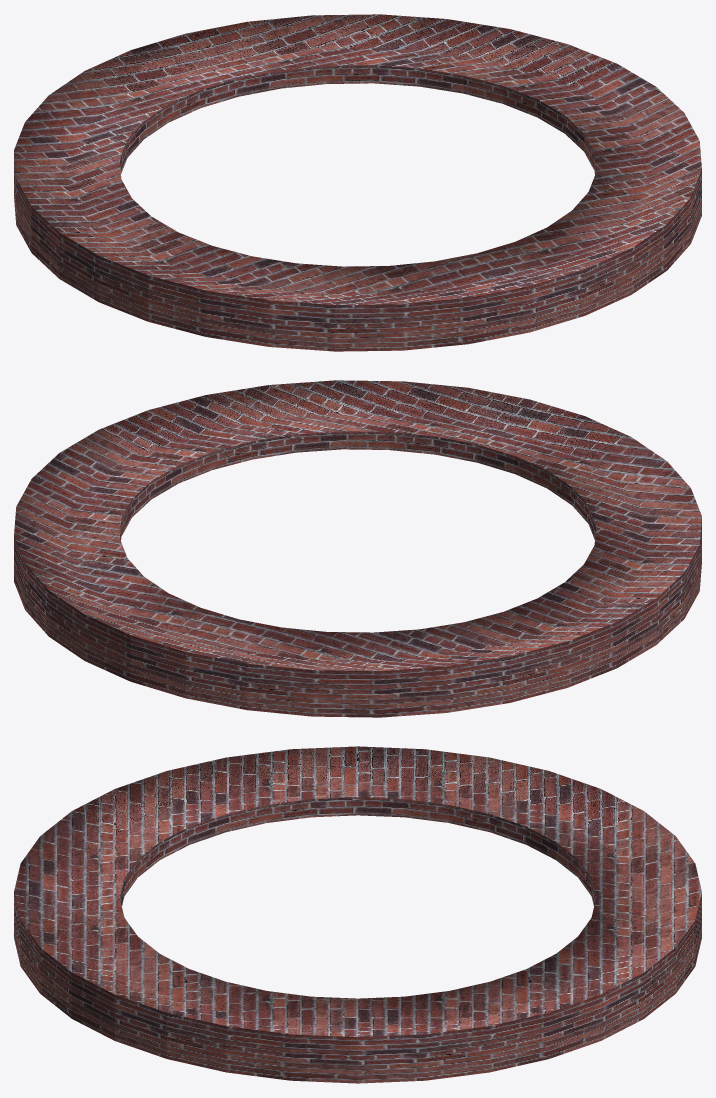
Rendered from jumpme.obj.
3 views of the same model, one above another, from view 1: azimuth 30°, elevation 25°; view 2: azimuth 150°, elevation 25°; view 3: azimuth 270°, elevation 25° (orthographic).
Bounding box in the file's own units: 39 × 2.9 × 39.
1 material, 1 textured.
